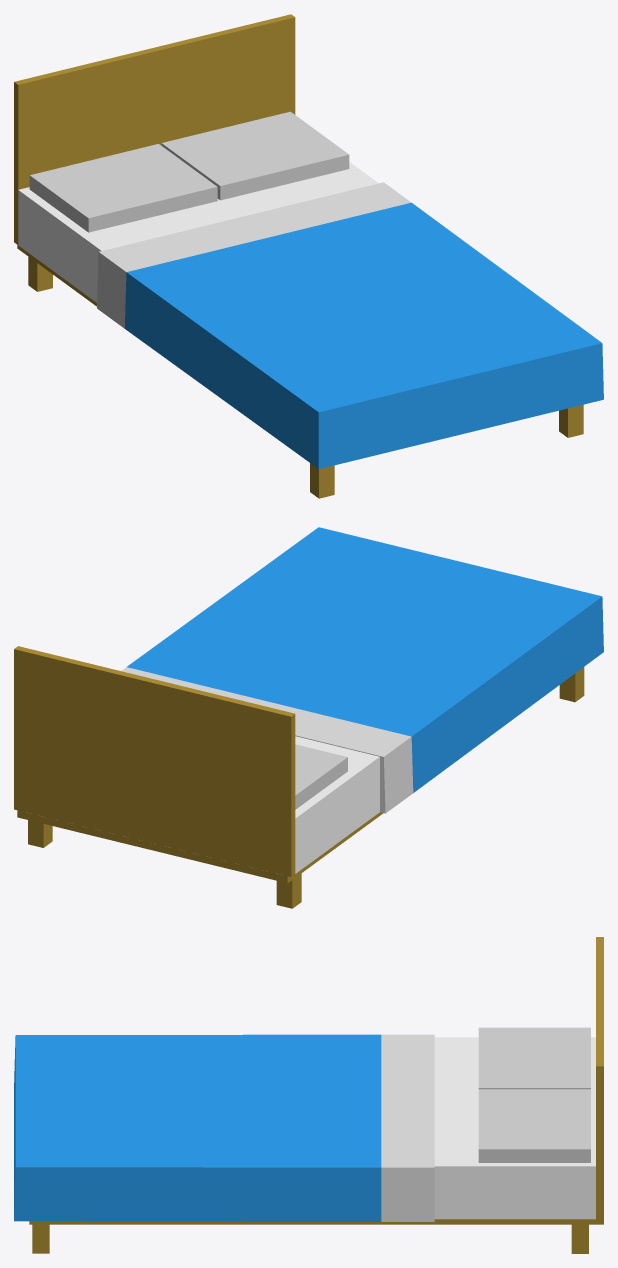
The model's file is Bed.fbx.
3 renders of one model, top to bottom at view 1: azimuth 30°, elevation 25°; view 2: azimuth 150°, elevation 25°; view 3: azimuth 270°, elevation 25°, orthographic. The views are drawn at different scales.
Parts seen in each view (by area): view 1: Cube; view 2: Cube; view 3: Cube.
Part boxes in pixels (left/top/right/bottom): Cube: left=14, top=14, right=603, bottom=498; Cube: left=14, top=527, right=603, bottom=908; Cube: left=14, top=937, right=603, bottom=1253.
Bounding box in the file's own units: 1089 × 719 × 2018.
